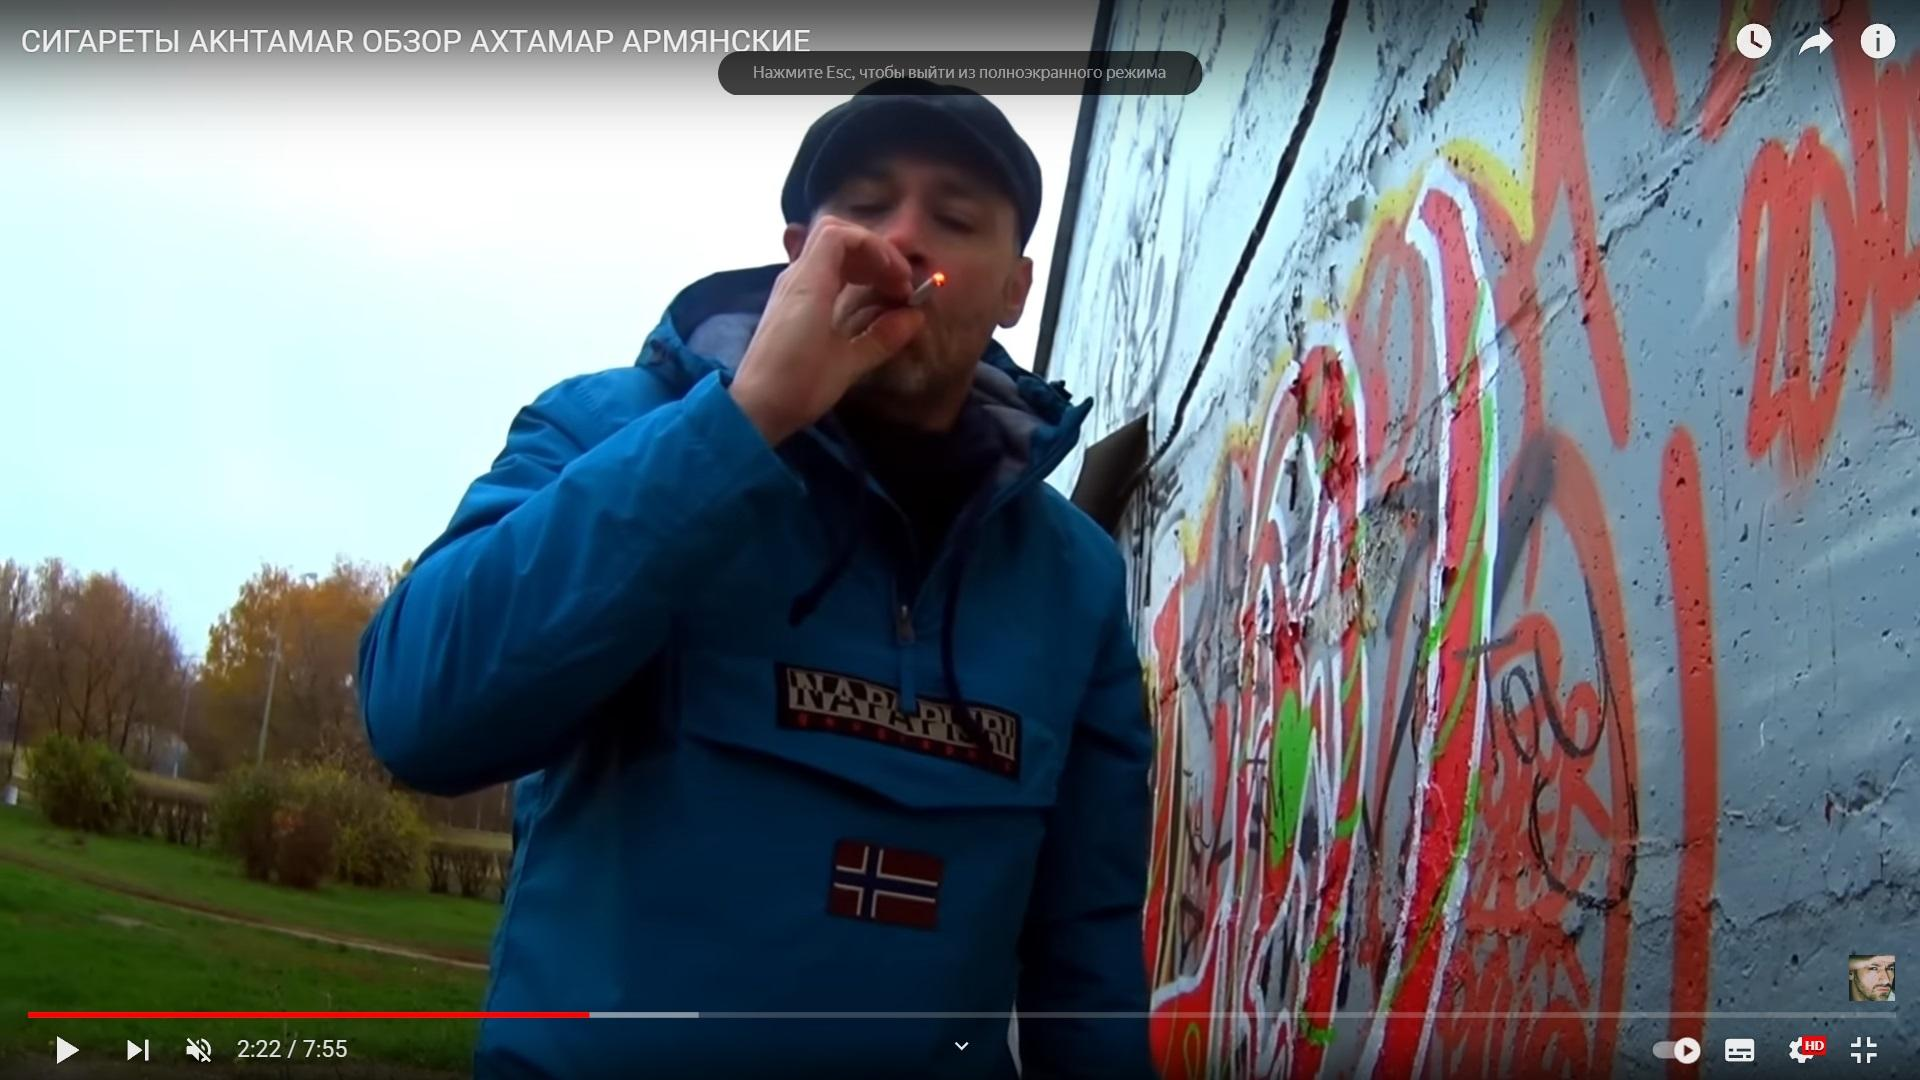cigarette: (907, 270, 947, 307)
